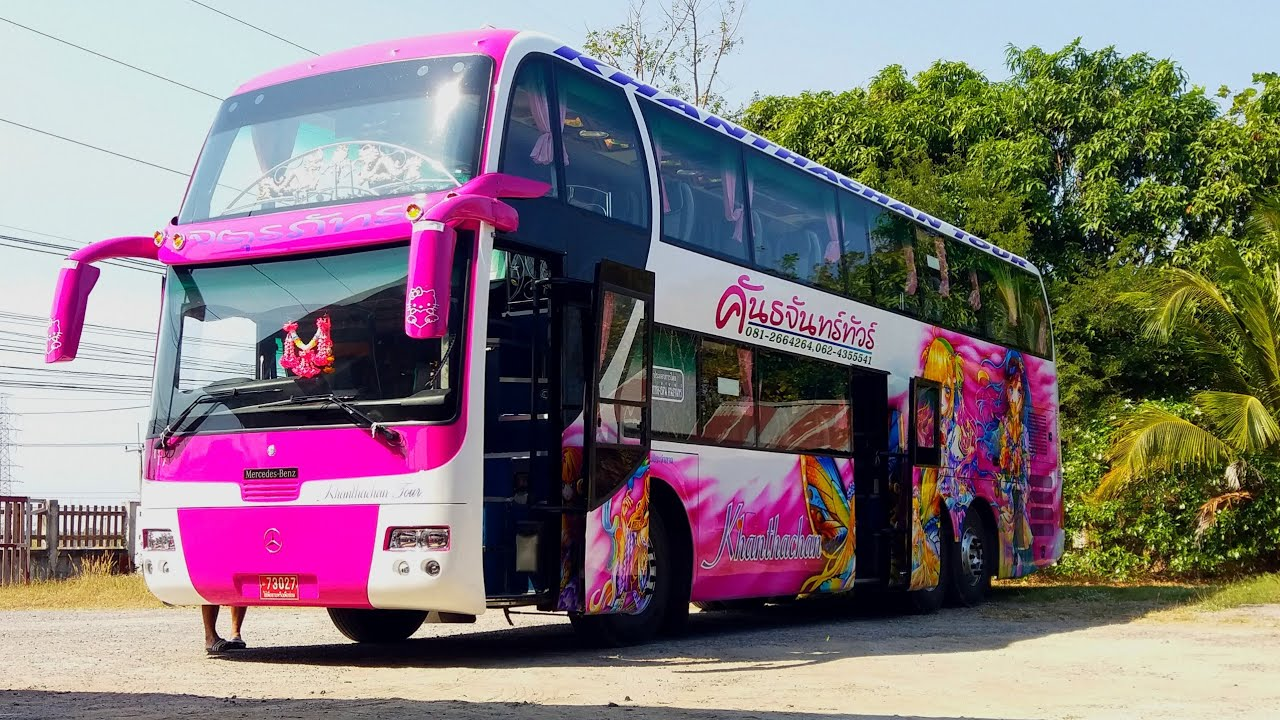bus: (139, 27, 1068, 613)
